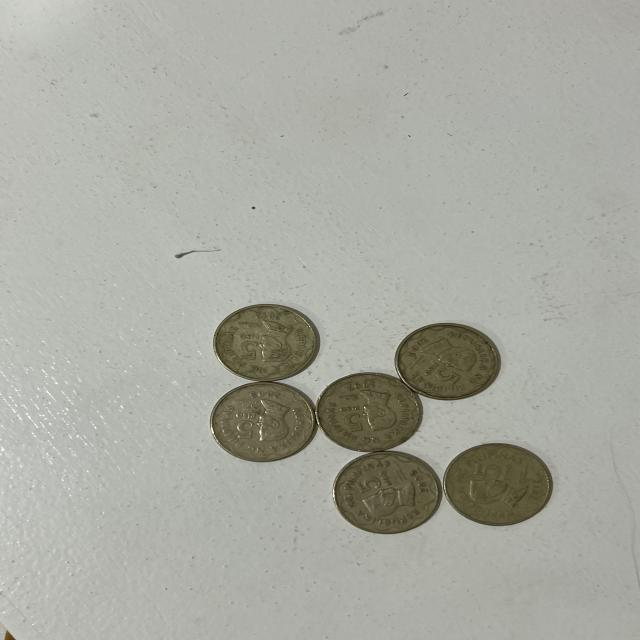5_Old_Front: (414, 360, 471, 391), (333, 402, 369, 441), (469, 454, 517, 482), (348, 466, 393, 493), (233, 329, 264, 366), (230, 409, 262, 444)
